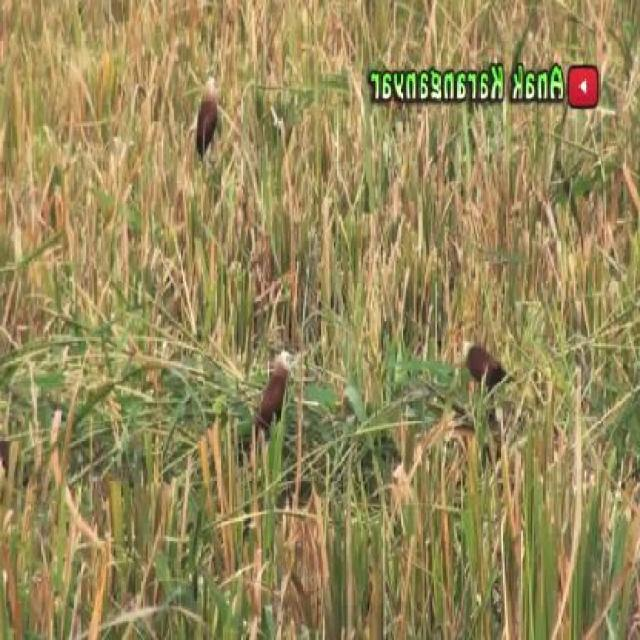Bird: (248, 337, 303, 435), (449, 326, 517, 395), (189, 73, 227, 163)
